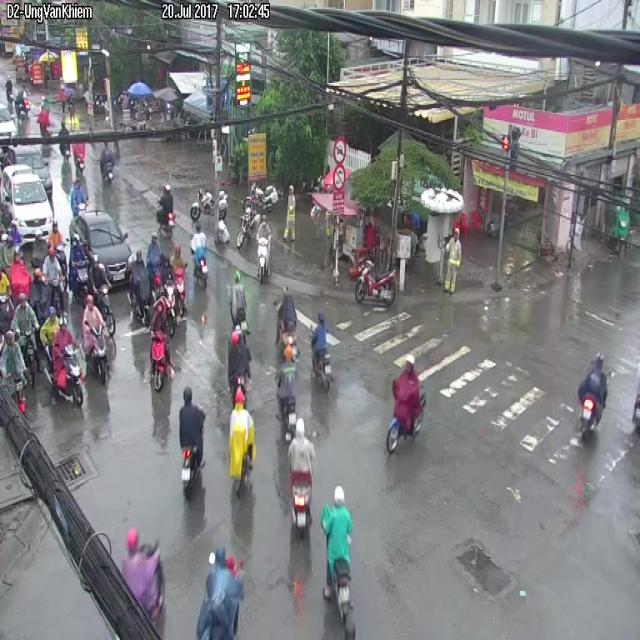car: (321, 486, 353, 639), (196, 547, 243, 639), (386, 357, 425, 453), (122, 527, 163, 618), (288, 418, 314, 530), (179, 387, 205, 495), (229, 388, 256, 492), (52, 321, 83, 406), (578, 354, 608, 439), (12, 293, 39, 385), (82, 293, 108, 382), (0, 330, 26, 412), (150, 292, 173, 378), (355, 259, 397, 305), (277, 339, 296, 437), (129, 250, 152, 324), (228, 326, 251, 396), (311, 313, 332, 388), (42, 246, 63, 308), (276, 287, 297, 348), (91, 256, 111, 313), (70, 236, 88, 299), (230, 271, 248, 330), (171, 246, 186, 314), (191, 221, 206, 284), (257, 219, 271, 281), (157, 185, 173, 224), (70, 179, 86, 216), (101, 147, 115, 182)
traffic-light: (71, 210, 132, 286), (2, 164, 53, 243)
